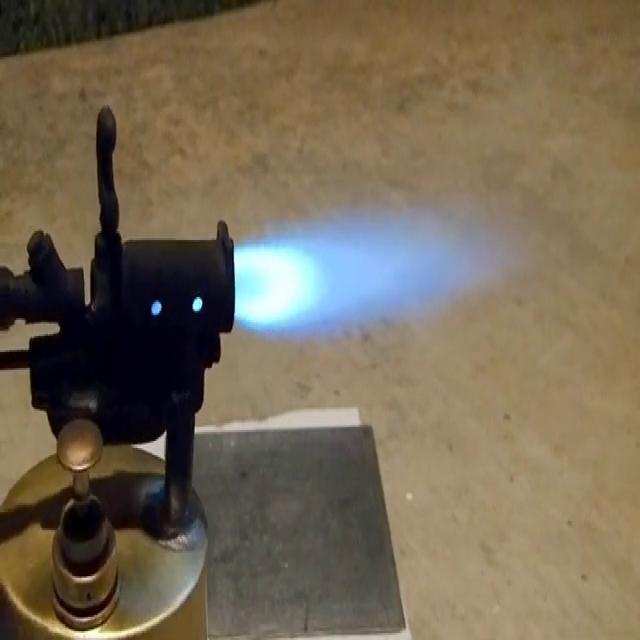fire: (219, 219, 505, 336)
